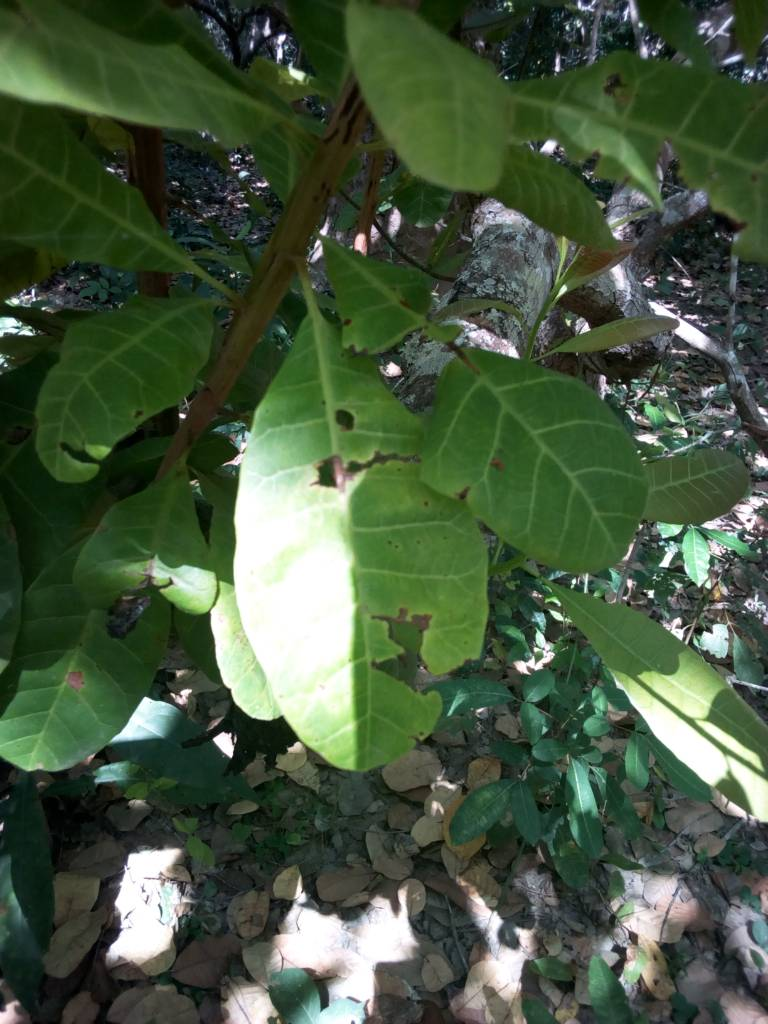Anoplocnemis curvipes: (246, 342, 479, 764), (550, 75, 768, 230), (40, 357, 140, 477)
